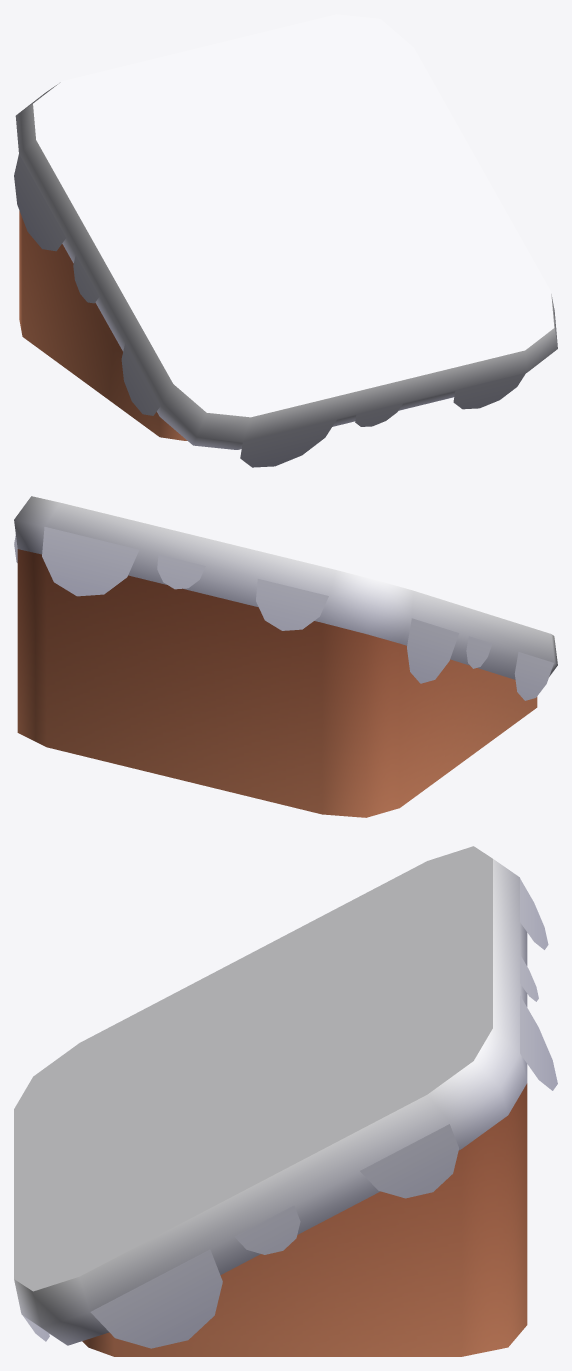
Rendered from block-snow-overhang-large-slope-steep.glb.
3 renders of one model, top to bottom at view 1: azimuth 30°, elevation 25°; view 2: azimuth 150°, elevation 25°; view 3: azimuth 270°, elevation 25°, orthographic. The views are drawn at different scales.
Visible parts, largest first — view 1: block-snow-overhang-large-slope-steep; view 2: block-snow-overhang-large-slope-steep; view 3: block-snow-overhang-large-slope-steep.
Part boxes in pixels (bbox=[...]): block-snow-overhang-large-slope-steep: bbox=[14, 14, 557, 467]; block-snow-overhang-large-slope-steep: bbox=[14, 496, 557, 817]; block-snow-overhang-large-slope-steep: bbox=[14, 846, 557, 1356].
Bounding box in the file's own units: 2.08 × 1.37 × 1.97.
1 material, 1 textured.
